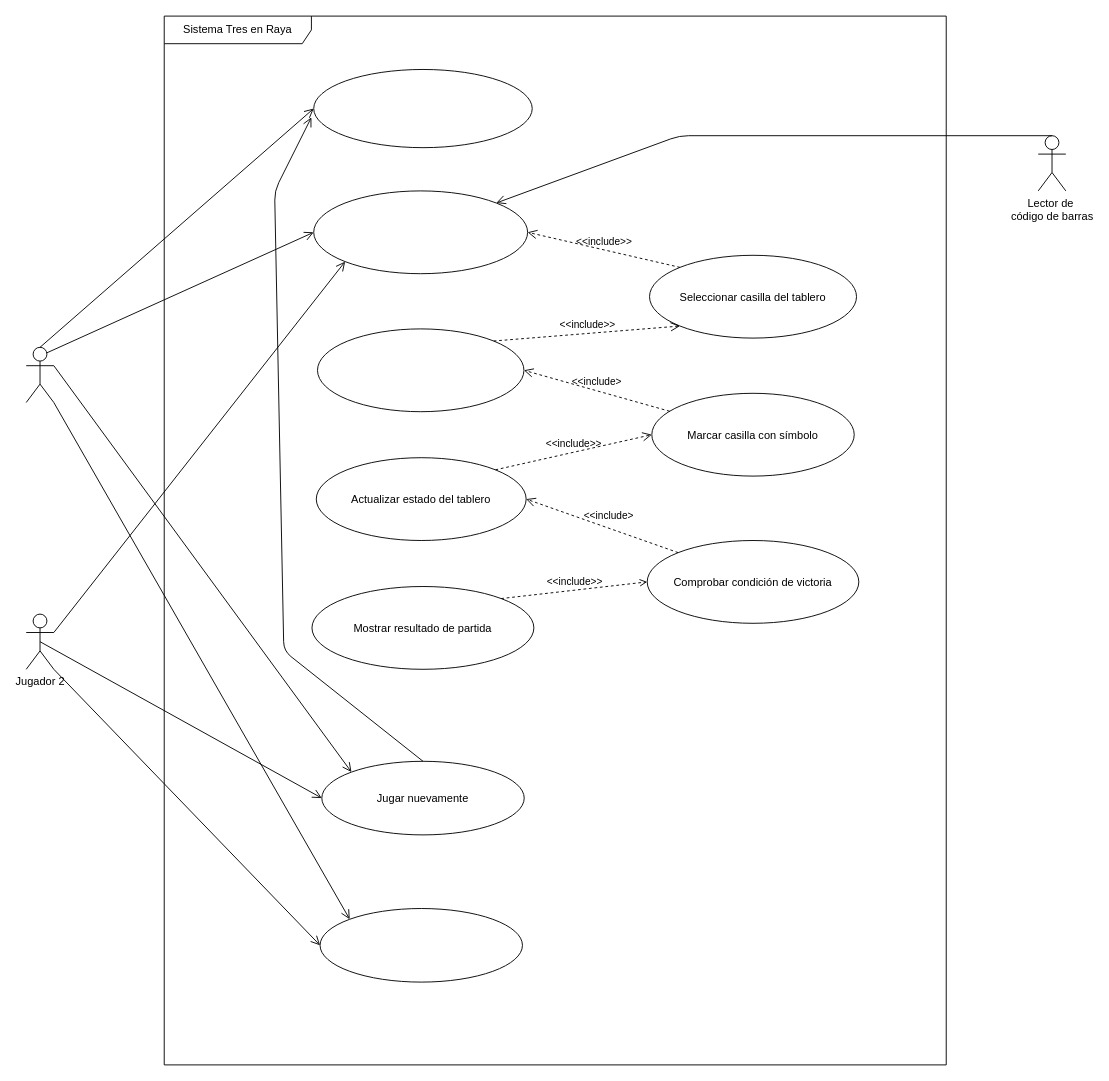
Image size: 1109x1081. Some labels were removed from this diagram. Here are the shapes that lost their labels. From the top down, the centre of each, then its label:
point 422,108: Iniciar una nueva partida
point 420,232: Escanear código de barras válido
point 39,374: Jugador 1
point 420,370: Verificar disponibilidad de casilla
point 420,945: Salir del programa
